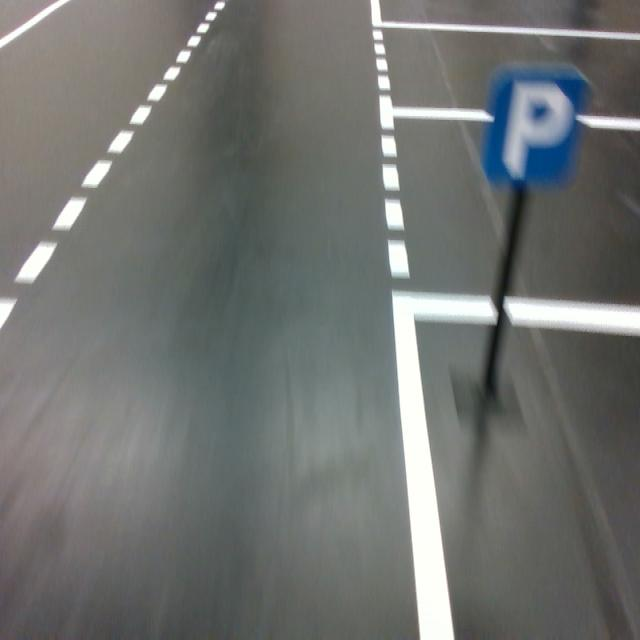parking-sign: (484, 68, 584, 187)
